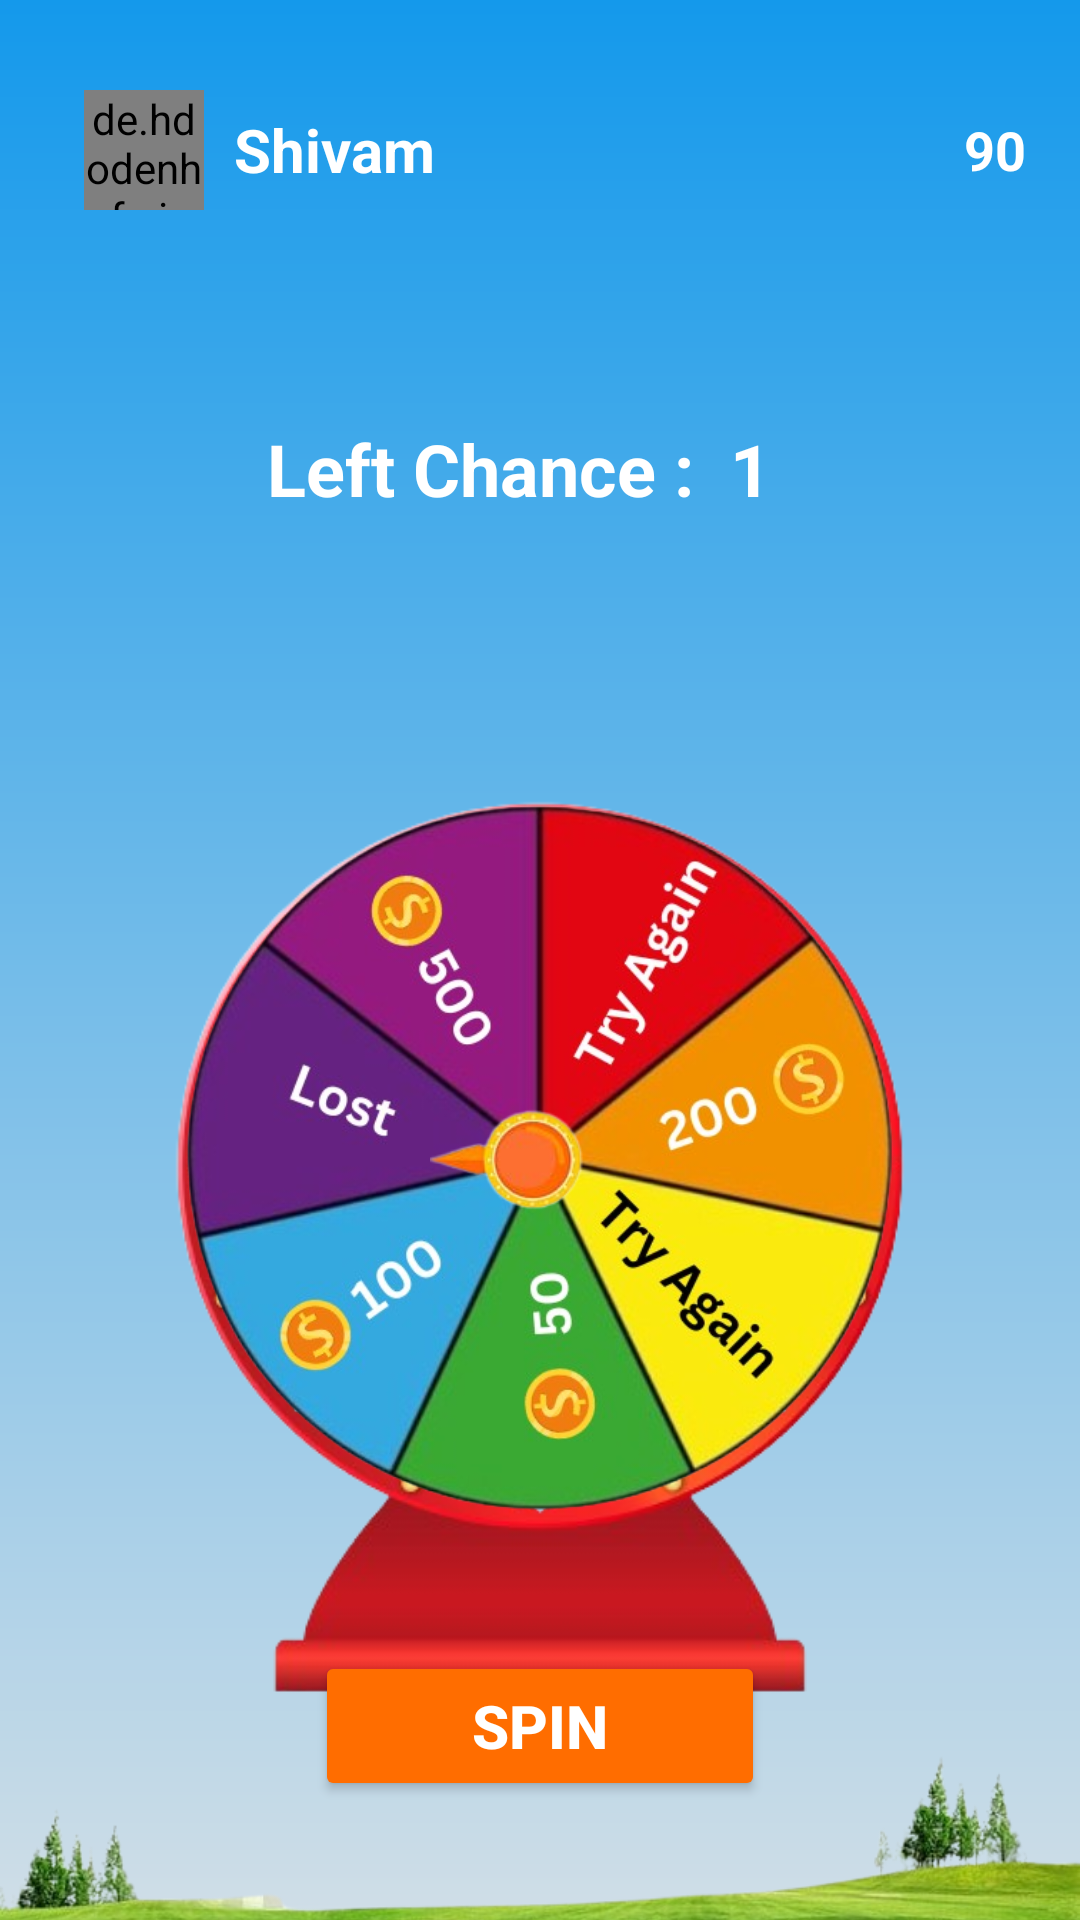

Icons on this 1080px×1920px Android screen, each with the point to tap as point (x, y):
arrow: point (509, 1159)
